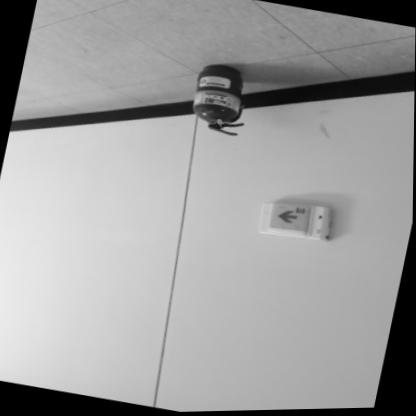FE: (189, 63, 252, 139)
